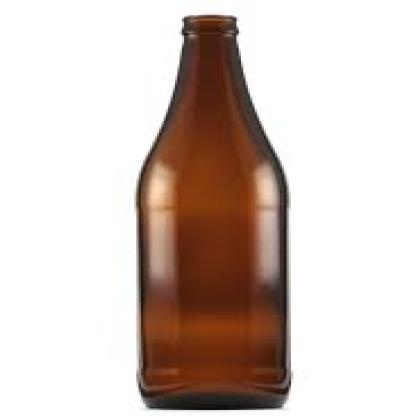trash: (137, 15, 290, 408)
